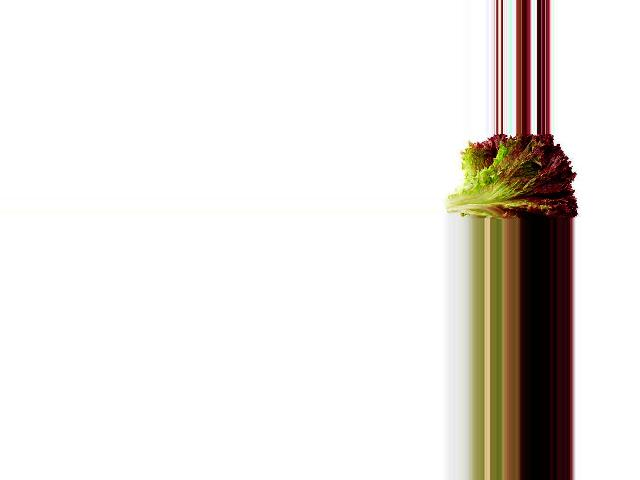lettuce: (442, 135, 585, 218)
